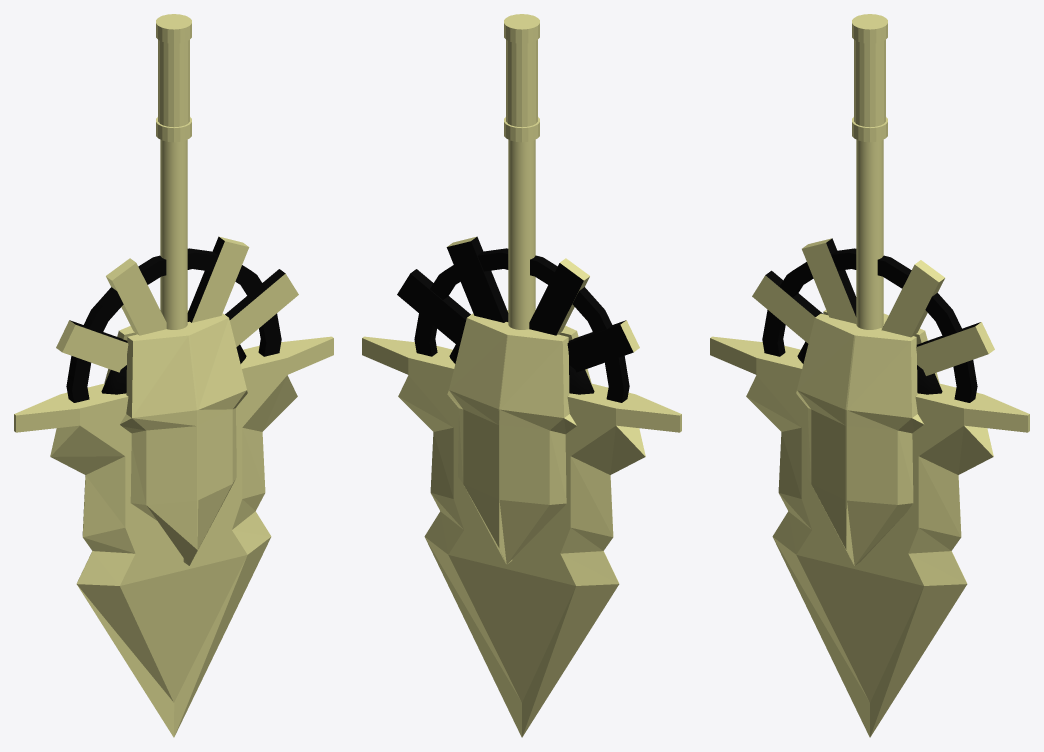
File: hugesword.FBX
3 renders of one model, left to right at view 1: azimuth 30°, elevation 25°; view 2: azimuth 150°, elevation 25°; view 3: azimuth 330°, elevation 25°, orthographic.
Visible parts, largest first — view 1: Box001; view 2: Box001; view 3: Box001.
Part boxes in pixels (x1=…): Box001: x1=14, y1=14, x2=333, y2=737; Box001: x1=362, y1=14, x2=681, y2=737; Box001: x1=710, y1=14, x2=1029, y2=737.
Bounding box in the file's own units: 4.04 × 1.02 × 8.7.
